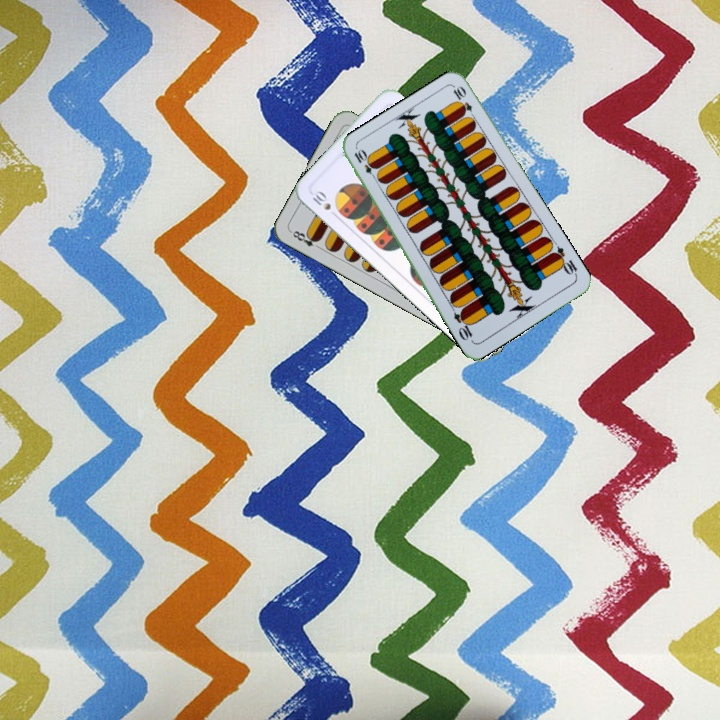E10: (548, 242, 580, 279), (350, 145, 380, 183)
E8: (287, 226, 324, 252)
S10: (308, 186, 340, 220)
